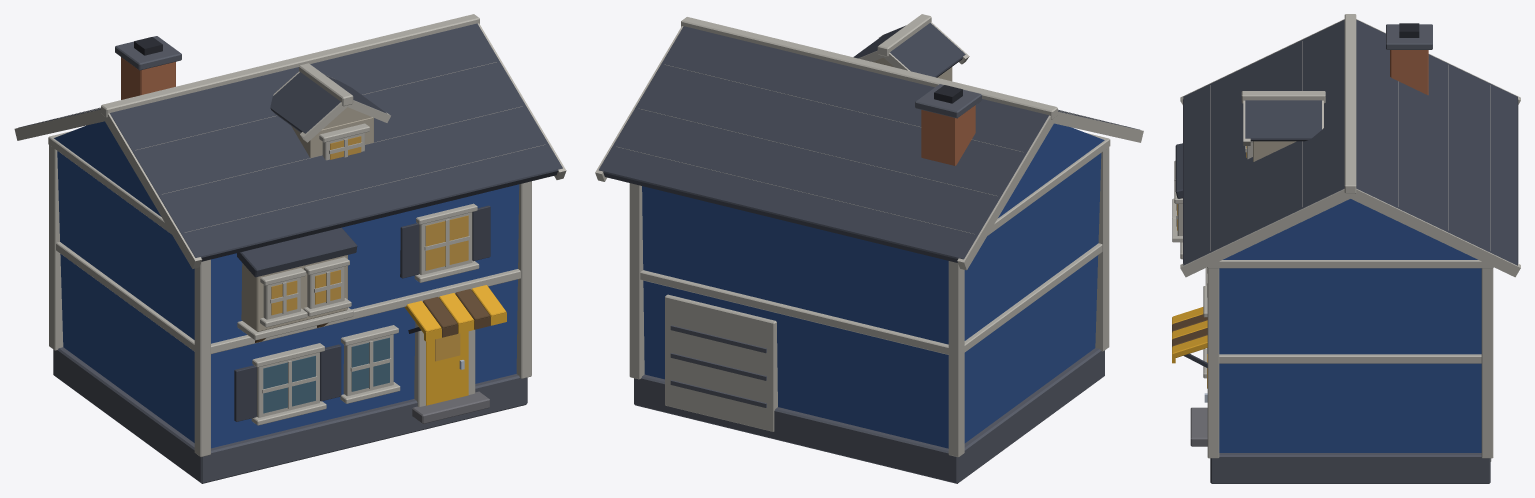
File: Stylized_House_Suburban_B.fbx
The picture shows the model from 3 angles, left to right: view 1: azimuth 30°, elevation 25°; view 2: azimuth 150°, elevation 25°; view 3: azimuth 270°, elevation 25°; orthographic projection. The views are drawn at different scales.
Parts seen in each view (by area): view 1: Stylized_House_Suburban_B; view 2: Stylized_House_Suburban_B; view 3: Stylized_House_Suburban_B.
Boxes of the visible parts, x1,y1,x2,y2 form: Stylized_House_Suburban_B: [14, 14, 566, 483]; Stylized_House_Suburban_B: [595, 14, 1143, 483]; Stylized_House_Suburban_B: [1172, 14, 1520, 483].
Bounding box in the file's own units: 7.6 × 6.83 × 6.52.
